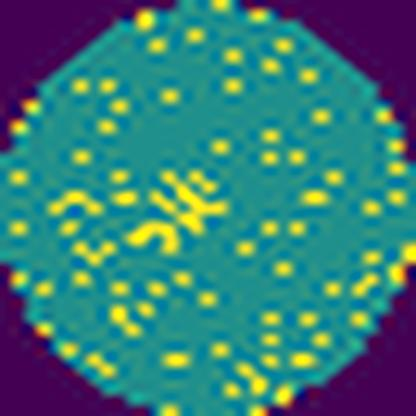Loc: (124, 165, 226, 253)
